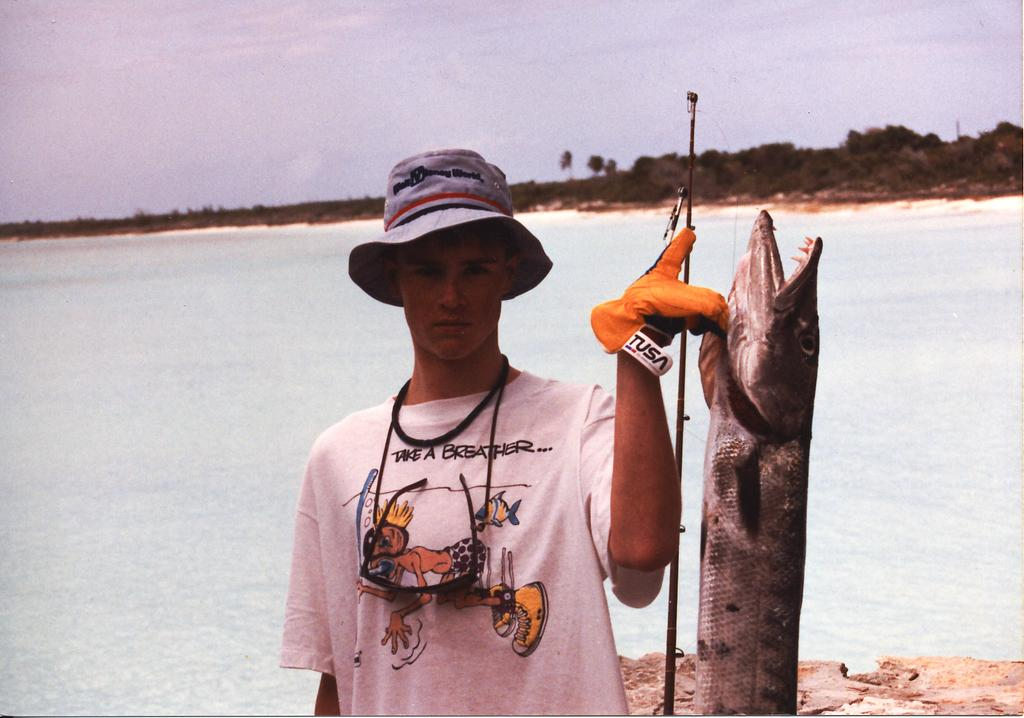Hat: (345, 146, 554, 308)
